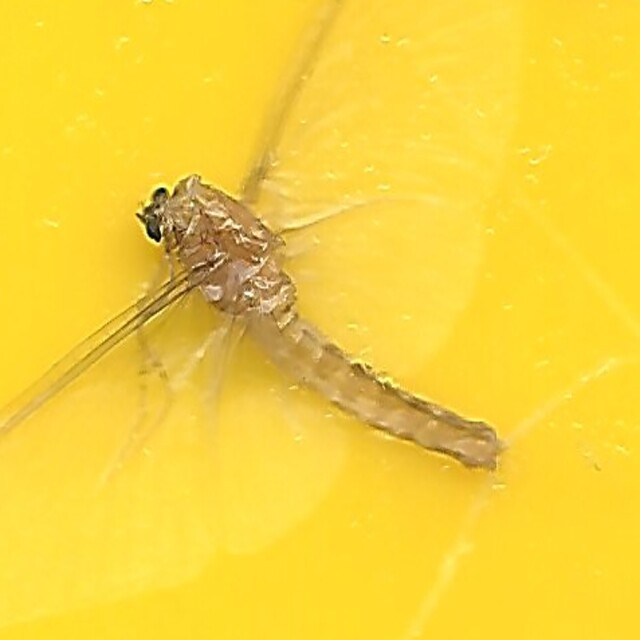Ephemeroptera: (134, 171, 506, 469)
